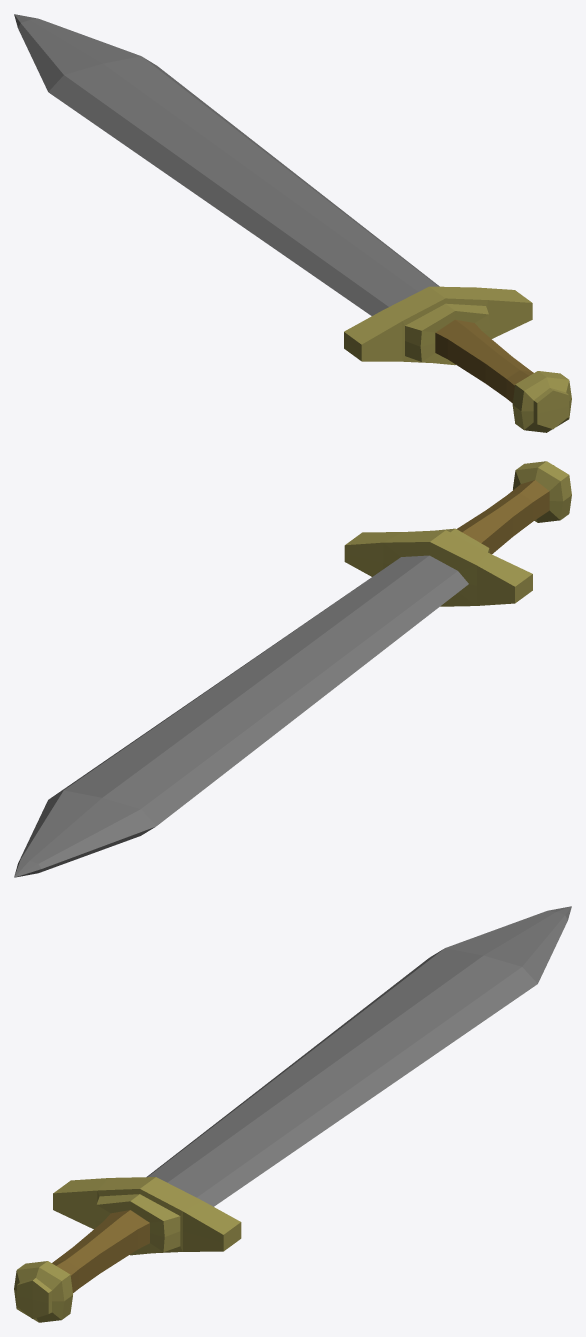
File: GAM7003_Sword.fbx
The picture shows the model from 3 angles, top to bottom: view 1: azimuth 30°, elevation 25°; view 2: azimuth 150°, elevation 25°; view 3: azimuth 330°, elevation 25°; orthographic projection.
Parts seen in each view (by area): view 1: GAM7003_Sword; view 2: GAM7003_Sword; view 3: GAM7003_Sword.
Part boxes in pixels (box(x1,y1,x2,y2)): GAM7003_Sword: box(14, 14, 571, 432); GAM7003_Sword: box(14, 461, 571, 877); GAM7003_Sword: box(14, 906, 571, 1322).
Size of the model in its own units: 18.28 by 6.67 by 100.
